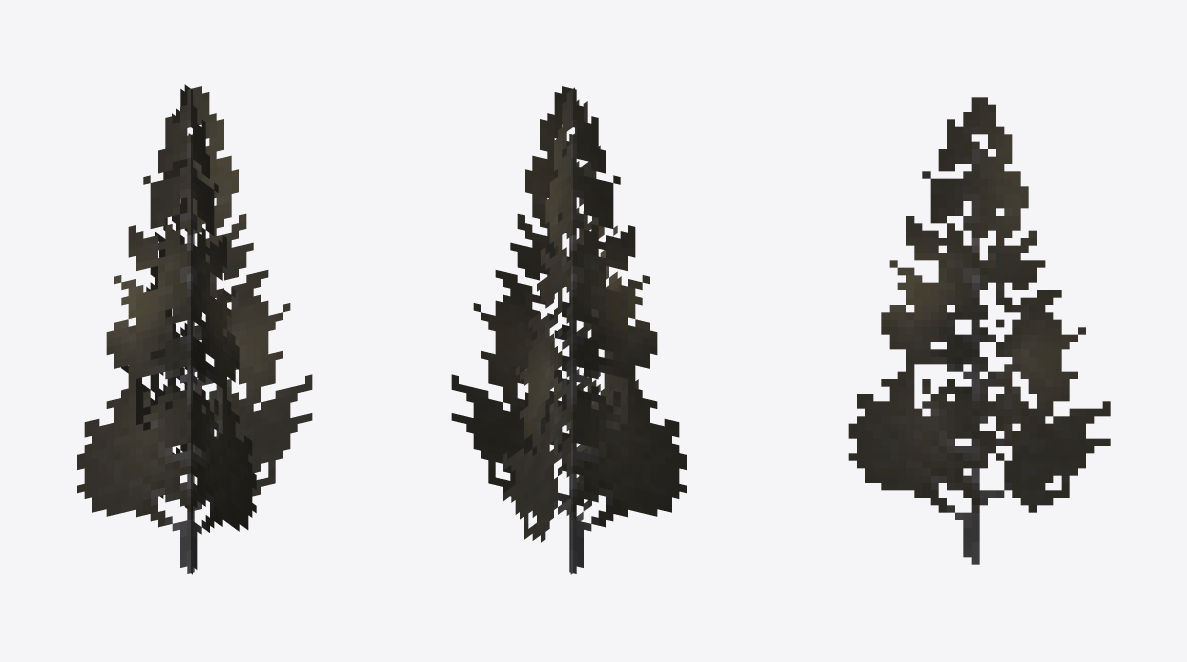
The model's file is treePine_large.glb.
3 renders of one model, left to right at view 1: azimuth 30°, elevation 25°; view 2: azimuth 150°, elevation 25°; view 3: azimuth 270°, elevation 25°, orthographic. The views are drawn at different scales.
Parts seen in each view (by area): view 1: treePine_large; view 2: treePine_large; view 3: treePine_large.
Part boxes in pixels (x1,y1,x2,y2): treePine_large: (77,84,312,574); treePine_large: (451,86,686,574); treePine_large: (848,97,1110,564).
Size of the model in its own units: 1.3 by 1.7 by 1.3.
Materials: 1 (1 with a texture image).
